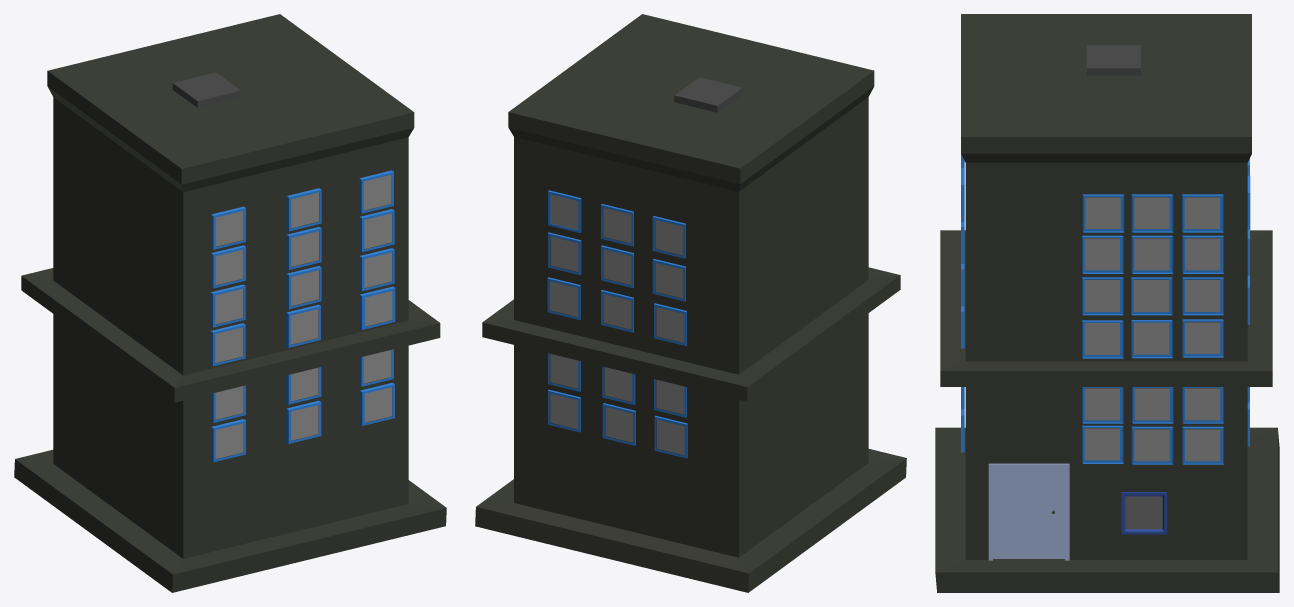
Rendered from build.fbx.
The picture shows the model from 3 angles, left to right: view 1: azimuth 30°, elevation 25°; view 2: azimuth 150°, elevation 25°; view 3: azimuth 270°, elevation 25°; orthographic projection. The views are drawn at different scales.
Parts seen in each view (by area): view 1: Cubo; view 2: Cubo; view 3: Cubo.
Boxes of the visible parts, bbox=[...] form: Cubo: bbox=[14, 14, 446, 592]; Cubo: bbox=[475, 14, 906, 592]; Cubo: bbox=[935, 14, 1279, 592].
Size of the model in its own units: 326 by 476 by 328.
